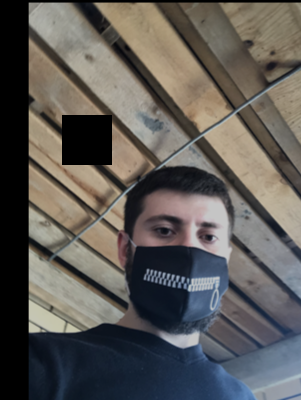with_mask: (130, 206, 230, 333)
